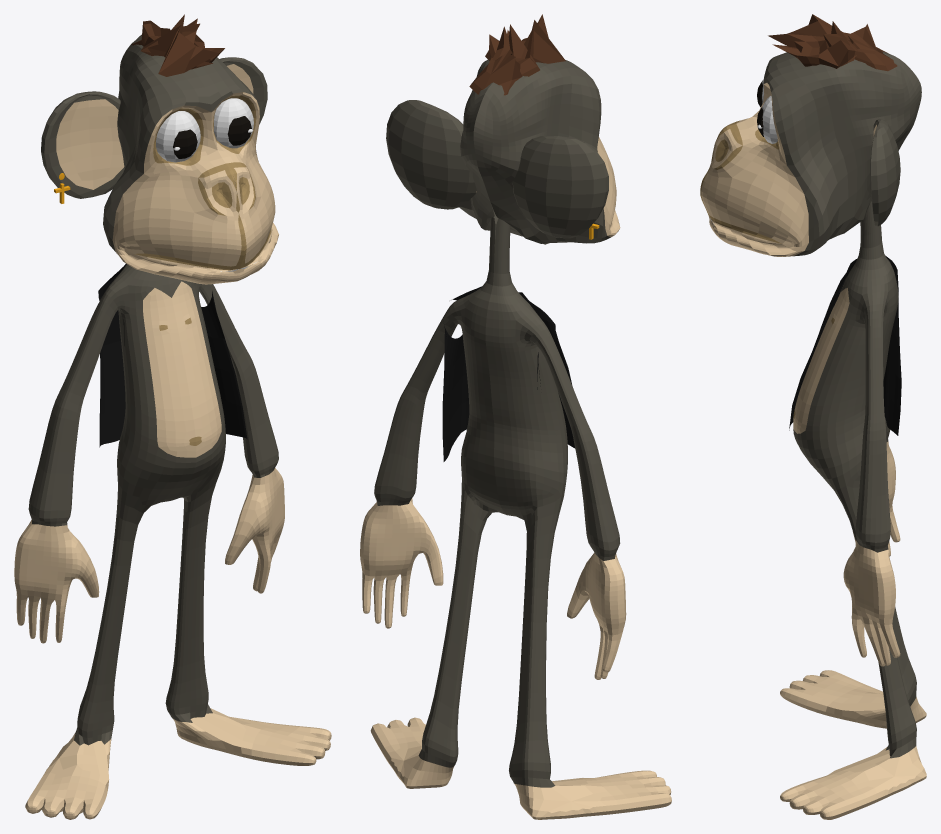
3 renders of one model, left to right at view 1: azimuth 30°, elevation 25°; view 2: azimuth 150°, elevation 25°; view 3: azimuth 270°, elevation 25°, orthographic. The views are drawn at different scales.
Parts seen in each view (by area): view 1: body, head_bored, tshirt, eyes_wide, hair; view 2: body, head_bored, tshirt, hair; view 3: body, head_bored, hair, tshirt, eyes_wide.
Boxes of the visible parts, x1,y1,x2,y2 form: body: [14, 57, 331, 819]; head_bored: [103, 34, 278, 284]; tshirt: [98, 263, 247, 447]; eyes_wide: [156, 98, 253, 162]; hair: [132, 14, 224, 76]; body: [360, 100, 671, 819]; head_bored: [459, 59, 620, 244]; tshirt: [442, 286, 575, 461]; hair: [469, 14, 565, 95]; body: [780, 119, 926, 819]; head_bored: [700, 51, 921, 256]; hair: [768, 14, 897, 71]; tshirt: [789, 255, 901, 435]; eyes_wide: [757, 79, 777, 143].
Size of the model in its own units: 2.13 by 5.09 by 1.42.
